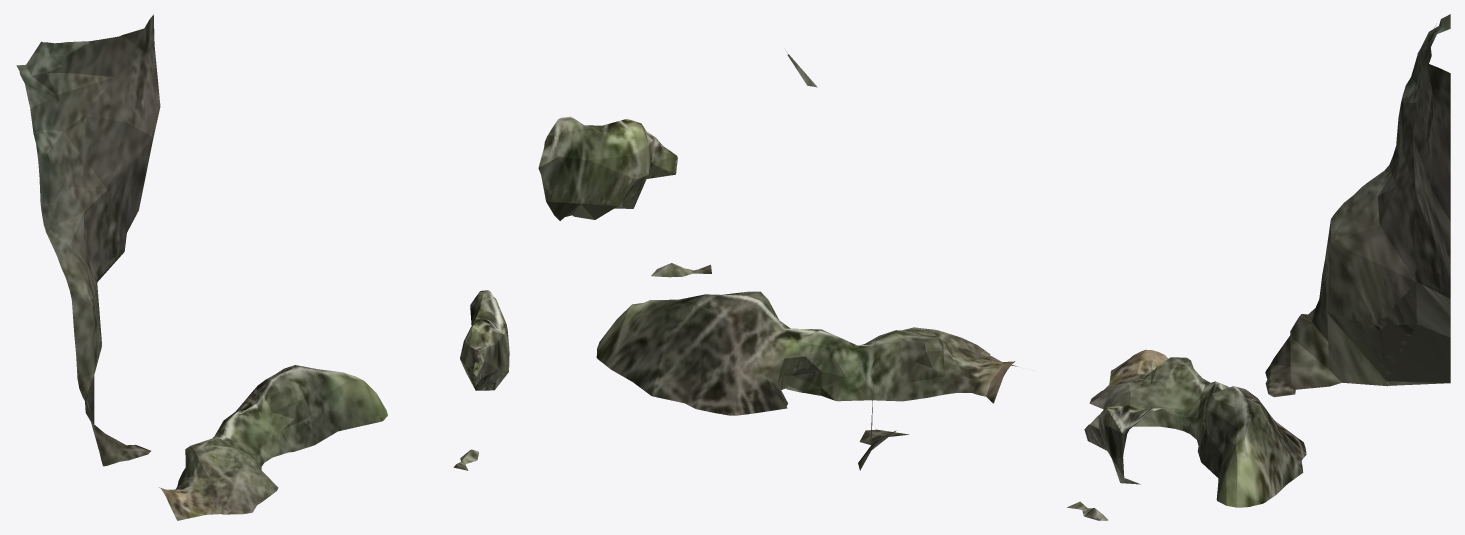
The picture shows the model from 3 angles, left to right: view 1: azimuth 30°, elevation 25°; view 2: azimuth 150°, elevation 25°; view 3: azimuth 270°, elevation 25°; orthographic projection. The views are drawn at different scales.
Size of the model in its own units: 2.95 by 2.95 by 2.79.
2 materials, 2 textured.
